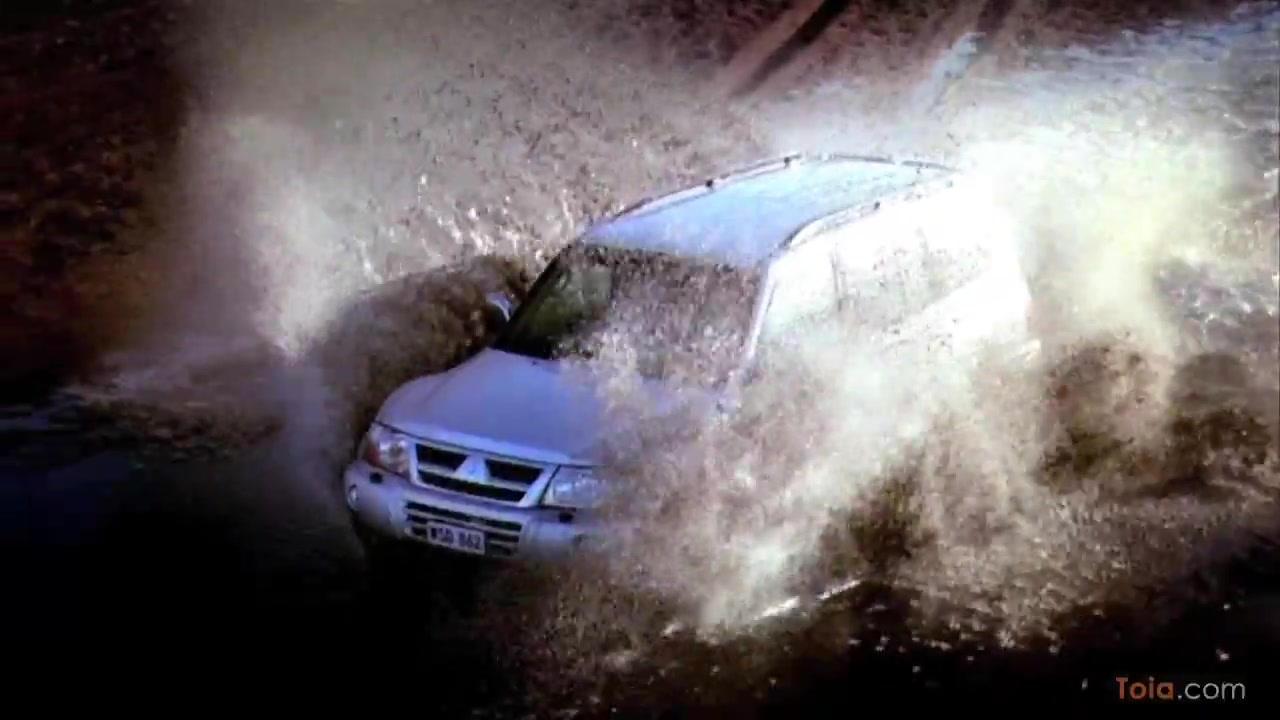car: (341, 146, 1042, 590)
